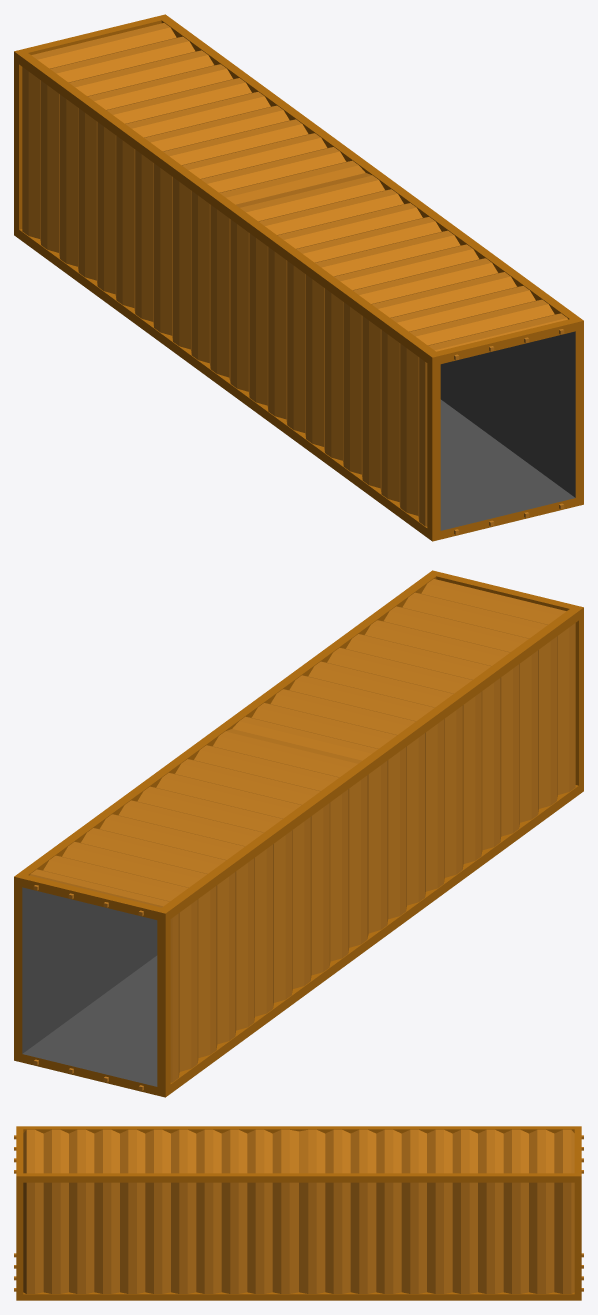
The model's file is ShippingContainer_05.fbx.
The picture shows the model from 3 angles, top to bottom: view 1: azimuth 30°, elevation 25°; view 2: azimuth 150°, elevation 25°; view 3: azimuth 270°, elevation 25°; orthographic projection. The views are drawn at different scales.
Visible parts, largest first — view 1: ShippingContainer_05; view 2: ShippingContainer_05; view 3: ShippingContainer_05.
Boxes of the visible parts, box(x1,y1,x2,y2) form: ShippingContainer_05: box(14, 14, 583, 541); ShippingContainer_05: box(14, 570, 583, 1097); ShippingContainer_05: box(14, 1126, 583, 1300).
Bounding box in the file's own units: 250 × 290 × 1205.
